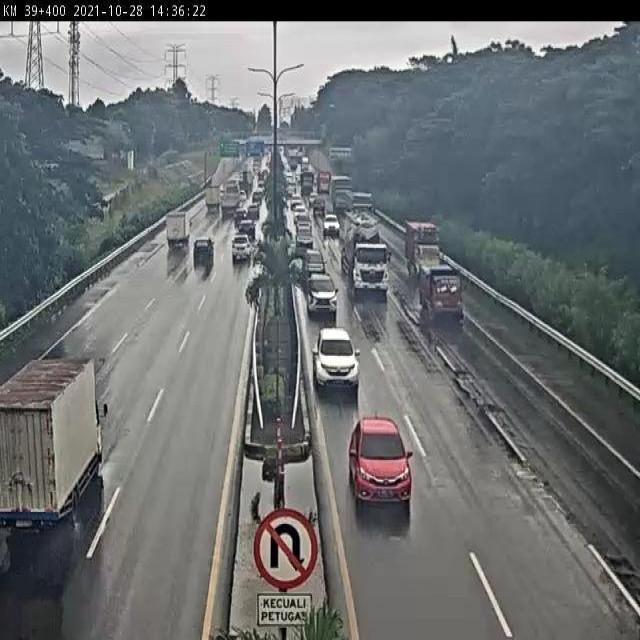big truck: (0, 350, 104, 530), (341, 207, 389, 296)
car: (348, 414, 414, 506), (312, 324, 363, 395), (306, 271, 340, 317), (301, 248, 327, 281), (229, 231, 253, 261), (190, 235, 214, 265), (295, 220, 314, 251), (321, 212, 341, 236), (236, 219, 257, 241), (232, 205, 250, 227)
small truck: (418, 262, 464, 322), (403, 217, 444, 283), (165, 212, 193, 248)
